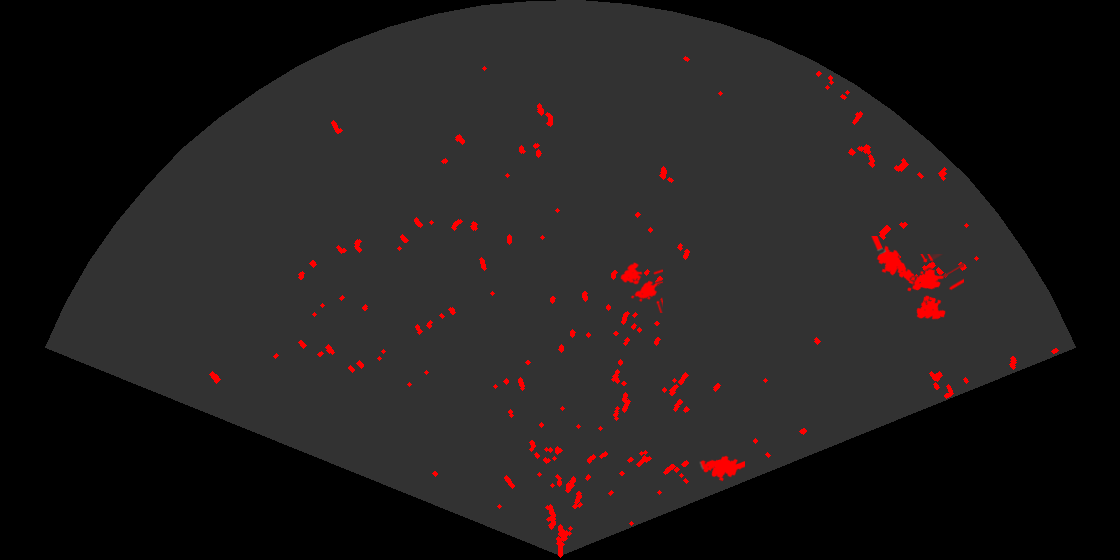cage: (906, 254, 964, 321), (619, 261, 663, 313)
frogman: (870, 236, 921, 290), (699, 454, 745, 483)
